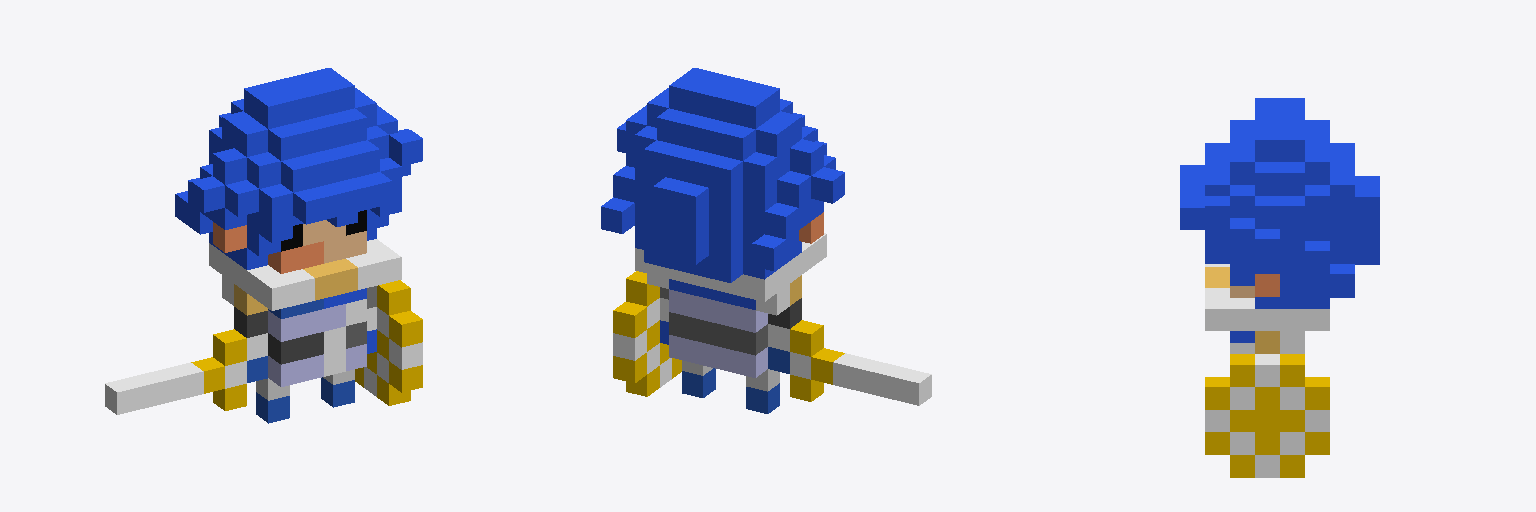
The picture shows the model from 3 angles: view 1: azimuth 30°, elevation 25°; view 2: azimuth 150°, elevation 25°; view 3: azimuth 270°, elevation 25°; orthographic projection.
Parts seen in each view (by area): view 1: Model; view 2: Model; view 3: Model.
Part boxes in pixels (bbox=[...]): Model: bbox=[105, 68, 422, 423]; Model: bbox=[601, 68, 931, 413]; Model: bbox=[1180, 98, 1379, 477].
Size of the model in its own units: 1.4 by 1.4 by 0.8.
Materials: 1 (1 with a texture image).